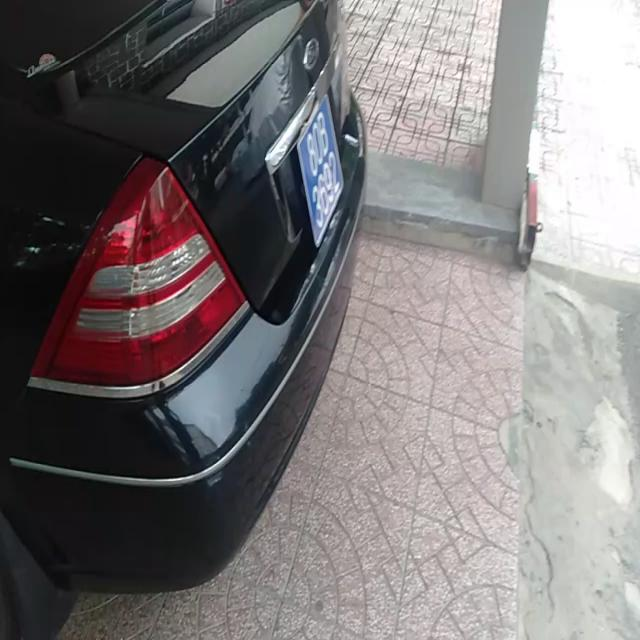bien_xanh: (294, 94, 348, 248)
